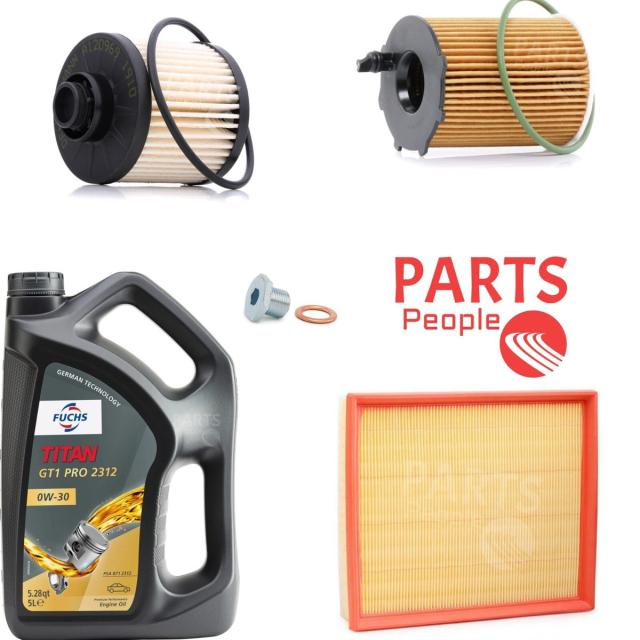air_filter: (338, 385, 604, 635)
motor_oil: (0, 264, 243, 640)
oil_filter: (45, 17, 259, 192), (364, 8, 596, 164)
